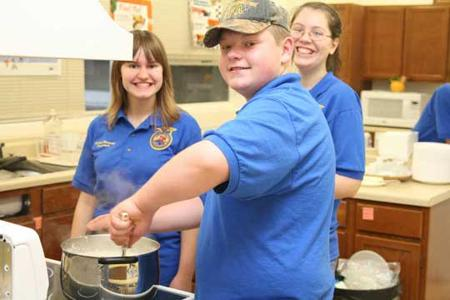person: (114, 3, 340, 299)
